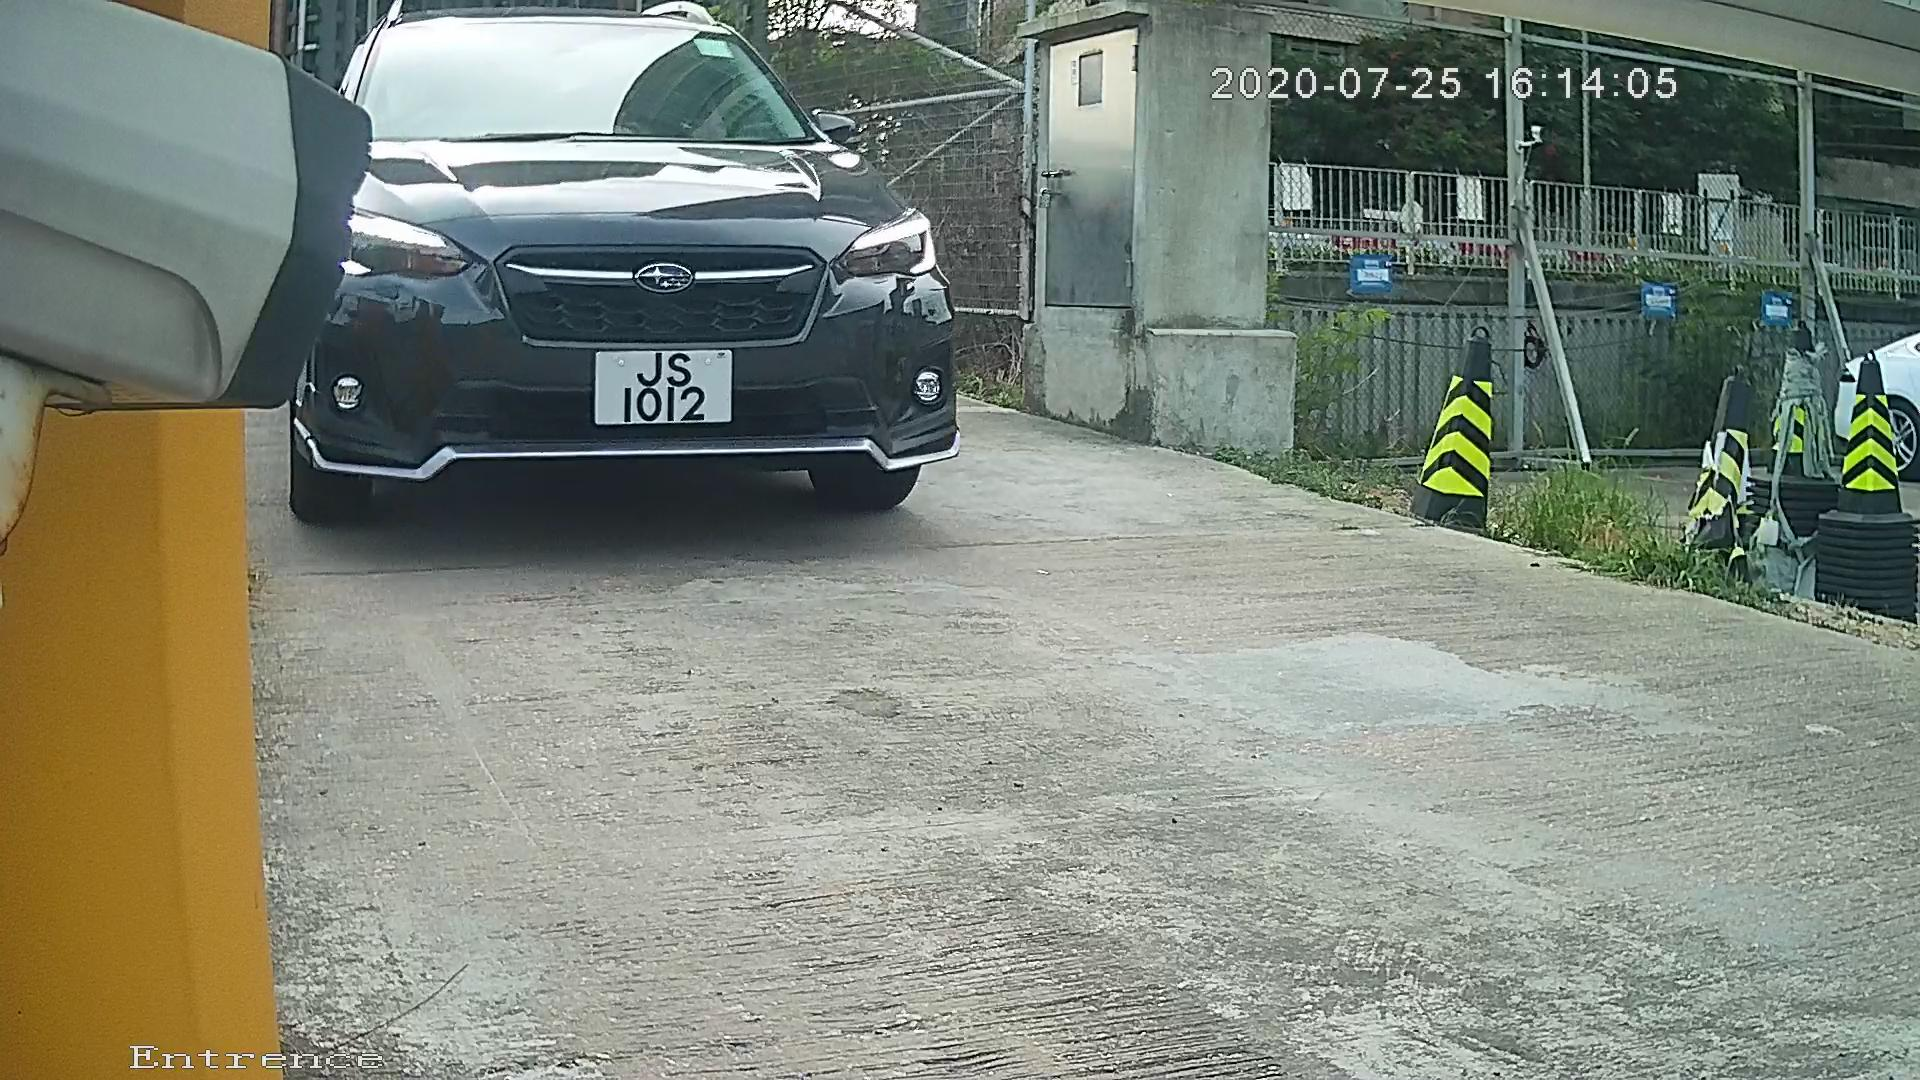License Plate: (566, 333, 755, 444)
